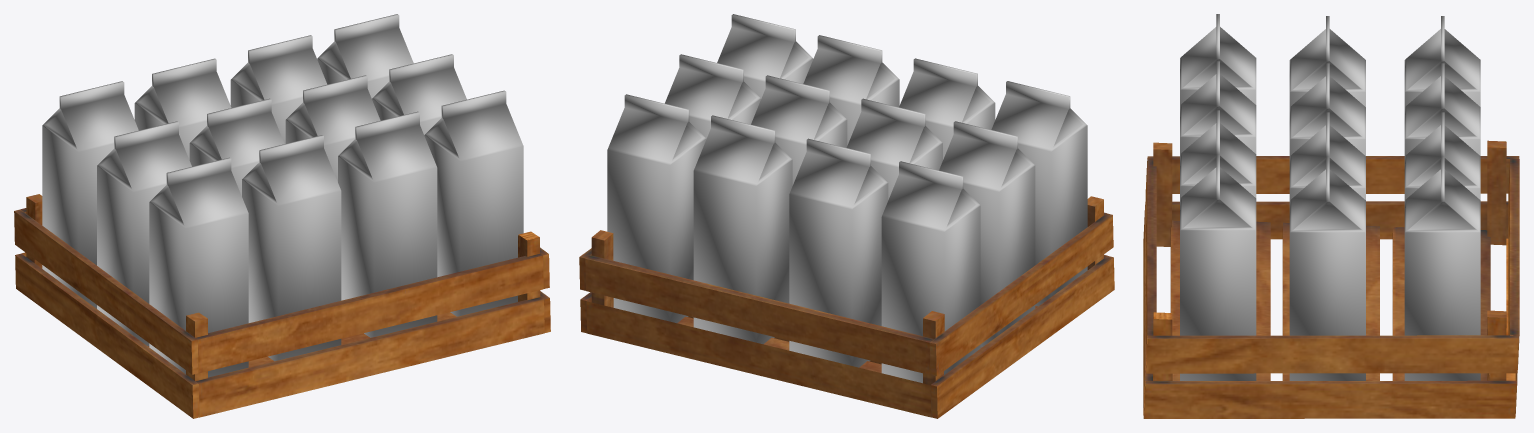
Rendered from Milk.fbx.
3 renders of one model, left to right at view 1: azimuth 30°, elevation 25°; view 2: azimuth 150°, elevation 25°; view 3: azimuth 270°, elevation 25°, orthographic. The views are drawn at different scales.
Visible parts, largest first — view 1: Rack.008, SMGP_MOD_Milk_LOD0.010, SMGP_MOD_Milk_LOD0.009, SMGP_MOD_Milk_LOD0.008, SMGP_MOD_Milk_LOD0.011, SMGP_MOD_Milk_LOD0, SMGP_MOD_Milk_LOD0.004, SMGP_MOD_Milk_LOD0.002, SMGP_MOD_Milk_LOD0.001, SMGP_MOD_Milk_LOD0.006, SMGP_MOD_Milk_LOD0.003, SMGP_MOD_Milk_LOD0.005 (+1 smaller); view 2: Rack.008, SMGP_MOD_Milk_LOD0.002, SMGP_MOD_Milk_LOD0.001, SMGP_MOD_Milk_LOD0, SMGP_MOD_Milk_LOD0.003, SMGP_MOD_Milk_LOD0.004, SMGP_MOD_Milk_LOD0.008, SMGP_MOD_Milk_LOD0.006, SMGP_MOD_Milk_LOD0.010, SMGP_MOD_Milk_LOD0.005, SMGP_MOD_Milk_LOD0.009, SMGP_MOD_Milk_LOD0.007 (+1 smaller); view 3: Rack.008, SMGP_MOD_Milk_LOD0.011, SMGP_MOD_Milk_LOD0.003, SMGP_MOD_Milk_LOD0.007, SMGP_MOD_Milk_LOD0.001, SMGP_MOD_Milk_LOD0.005, SMGP_MOD_Milk_LOD0.009, SMGP_MOD_Milk_LOD0, SMGP_MOD_Milk_LOD0.004, SMGP_MOD_Milk_LOD0.008, SMGP_MOD_Milk_LOD0.010, SMGP_MOD_Milk_LOD0.006 (+1 smaller).
Boxes of the visible parts, <box> form: Rack.008: <box>14,194,550,418</box>; SMGP_MOD_Milk_LOD0.010: <box>338,111,437,337</box>; SMGP_MOD_Milk_LOD0.009: <box>242,135,341,361</box>; SMGP_MOD_Milk_LOD0.008: <box>149,157,248,377</box>; SMGP_MOD_Milk_LOD0.011: <box>424,90,523,316</box>; SMGP_MOD_Milk_LOD0: <box>42,81,138,308</box>; SMGP_MOD_Milk_LOD0.004: <box>97,121,191,345</box>; SMGP_MOD_Milk_LOD0.002: <box>230,35,327,143</box>; SMGP_MOD_Milk_LOD0.001: <box>134,58,231,159</box>; SMGP_MOD_Milk_LOD0.006: <box>285,75,380,181</box>; SMGP_MOD_Milk_LOD0.003: <box>317,14,413,98</box>; SMGP_MOD_Milk_LOD0.005: <box>189,98,284,195</box>; Rack.008: <box>579,196,1114,418</box>; SMGP_MOD_Milk_LOD0.002: <box>693,115,792,344</box>; SMGP_MOD_Milk_LOD0.001: <box>789,138,888,367</box>; SMGP_MOD_Milk_LOD0: <box>881,161,980,383</box>; SMGP_MOD_Milk_LOD0.003: <box>607,94,706,323</box>; SMGP_MOD_Milk_LOD0.004: <box>939,121,1035,347</box>; SMGP_MOD_Milk_LOD0.008: <box>991,81,1087,306</box>; SMGP_MOD_Milk_LOD0.006: <box>751,75,847,185</box>; SMGP_MOD_Milk_LOD0.010: <box>803,35,899,145</box>; SMGP_MOD_Milk_LOD0.005: <box>846,98,942,199</box>; SMGP_MOD_Milk_LOD0.009: <box>899,58,995,159</box>; SMGP_MOD_Milk_LOD0.007: <box>665,54,760,138</box>; Rack.008: <box>1143,140,1519,418</box>; SMGP_MOD_Milk_LOD0.011: <box>1180,154,1256,380</box>; SMGP_MOD_Milk_LOD0.003: <box>1404,156,1480,380</box>; SMGP_MOD_Milk_LOD0.007: <box>1289,156,1365,380</box>; SMGP_MOD_Milk_LOD0.001: <box>1404,63,1480,155</box>; SMGP_MOD_Milk_LOD0.005: <box>1289,63,1365,155</box>; SMGP_MOD_Milk_LOD0.009: <box>1180,61,1256,153</box>; SMGP_MOD_Milk_LOD0: <box>1404,16,1480,106</box>; SMGP_MOD_Milk_LOD0.004: <box>1289,16,1365,106</box>; SMGP_MOD_Milk_LOD0.008: <box>1180,14,1256,104</box>; SMGP_MOD_Milk_LOD0.010: <box>1180,110,1256,197</box>; SMGP_MOD_Milk_LOD0.006: <box>1289,112,1365,199</box>.
Bounding box in the file's own units: 0.6471 × 0.3772 × 0.563.
